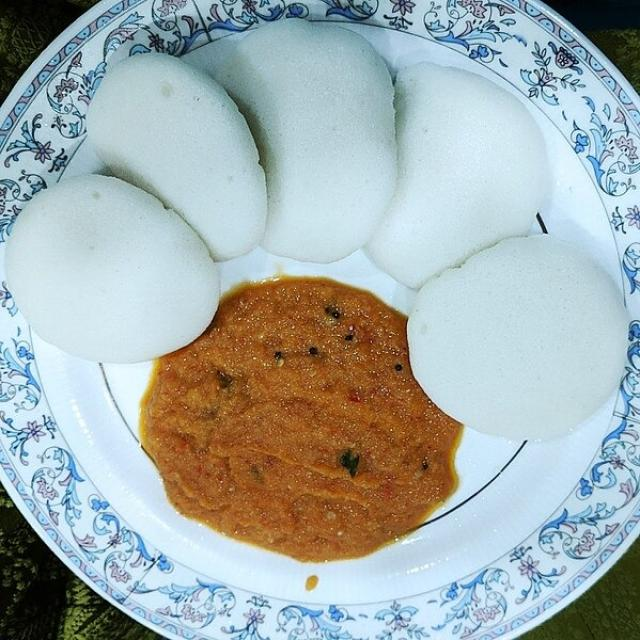idly: (410, 237, 626, 443), (218, 22, 398, 258), (5, 176, 219, 362), (371, 65, 544, 285), (88, 53, 264, 260)
kaara chutney: (138, 278, 436, 570)
